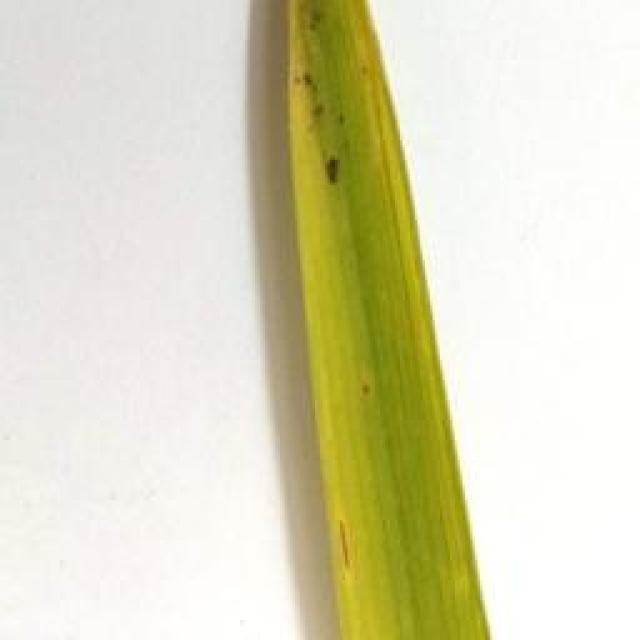Brown_Spot: (322, 506, 366, 581), (290, 64, 336, 126), (319, 148, 351, 187), (357, 370, 382, 408), (305, 4, 329, 29)
